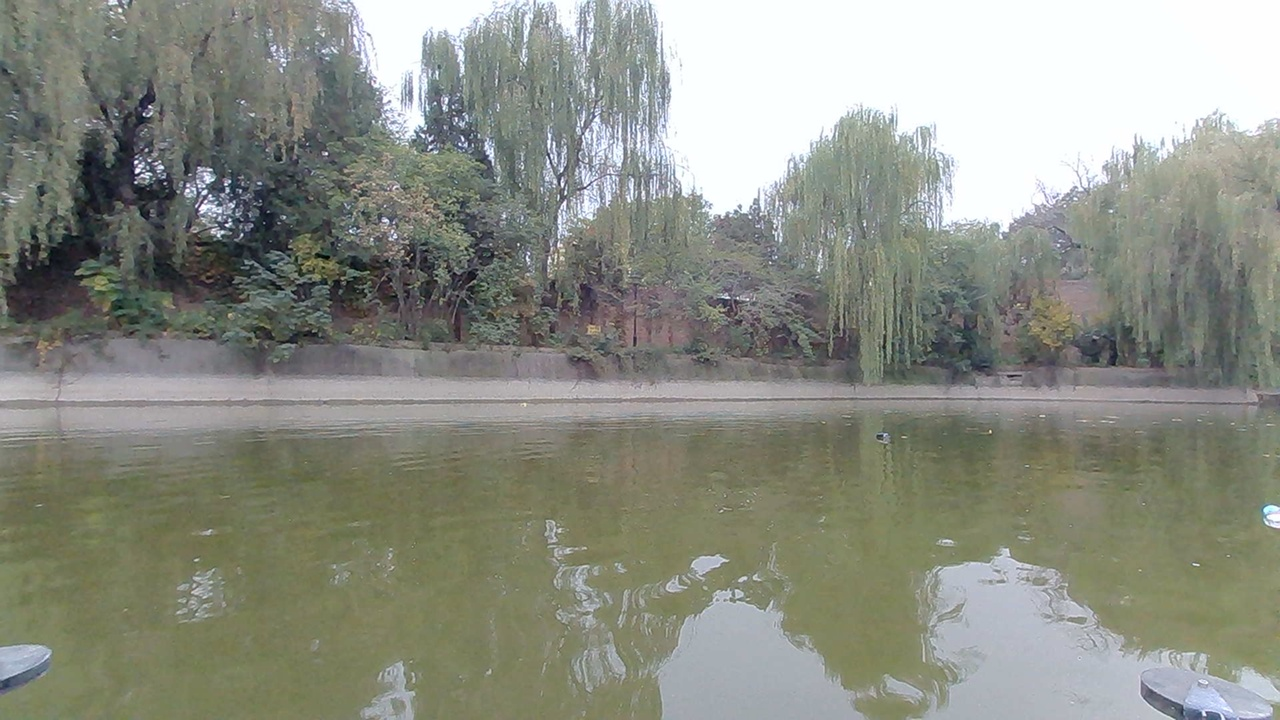bottle: (865, 420, 893, 446), (1263, 495, 1277, 533)
